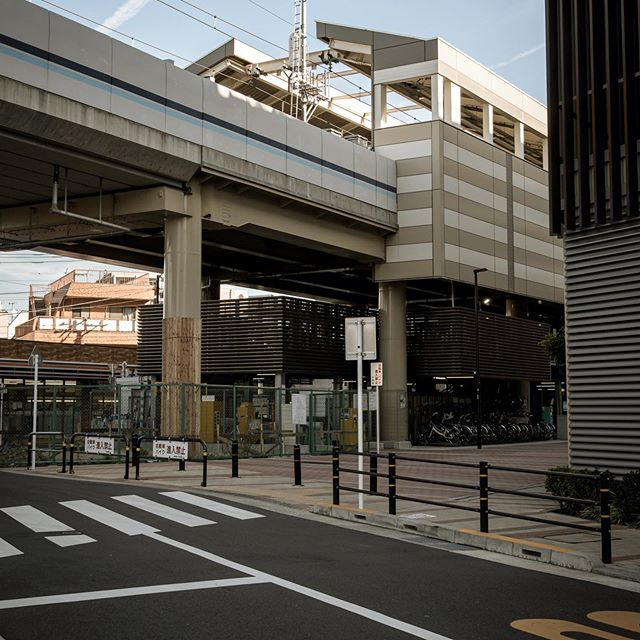bridge: (1, 6, 405, 335)
building: (1, 40, 553, 453), (547, 1, 640, 472)
collumn: (140, 214, 220, 461), (347, 278, 429, 447)
crosswalk: (1, 483, 255, 580)
street: (6, 465, 640, 640)
